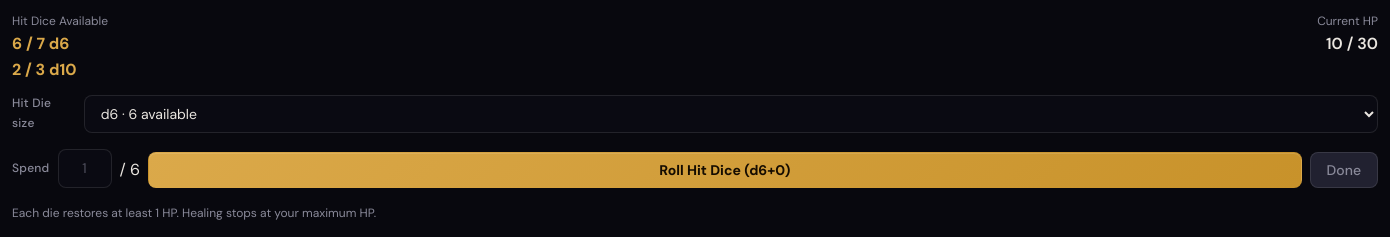
Test case: does not clamp an invalid request -1 into a different payment
Select "d10 · 2 available" in the dropdown labelled "Hit Die size": (731, 114) [84,95,1378,133]
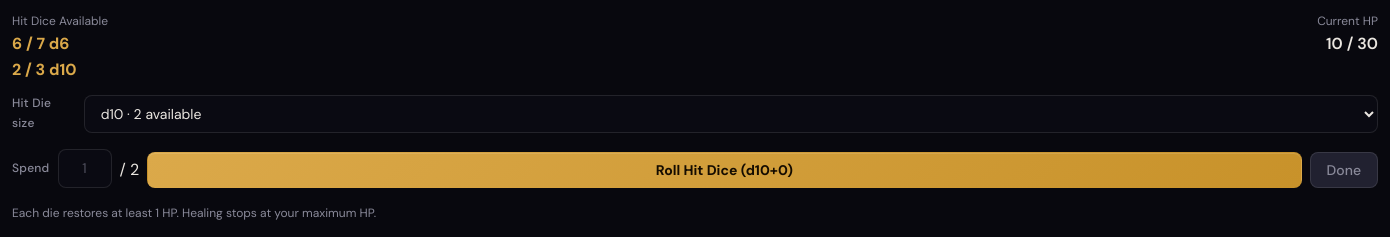
In the number field named "Hit Dice to spend": (84, 168) [58,149,112,188], type "-1"
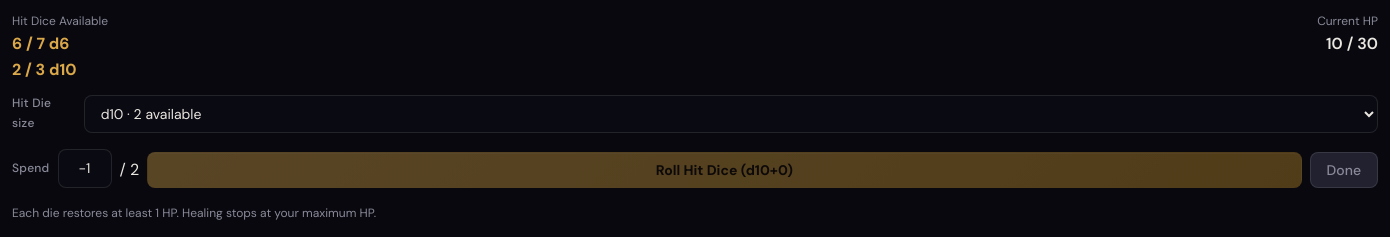
Check: the button "Roll Hit Dice (d10+0)" is disabled, box [147,152,1302,188]
